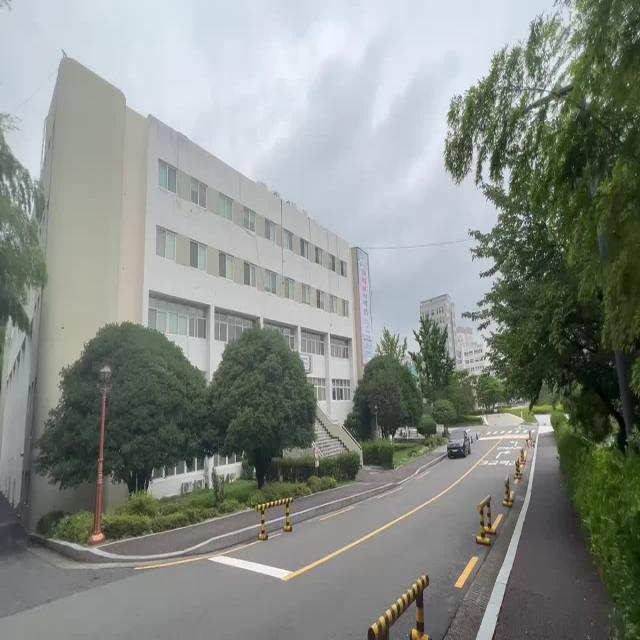building: (57, 87, 378, 334)
